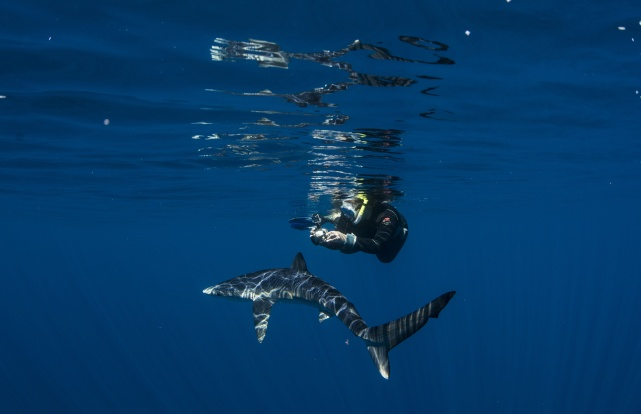Azul: (196, 254, 480, 391)
